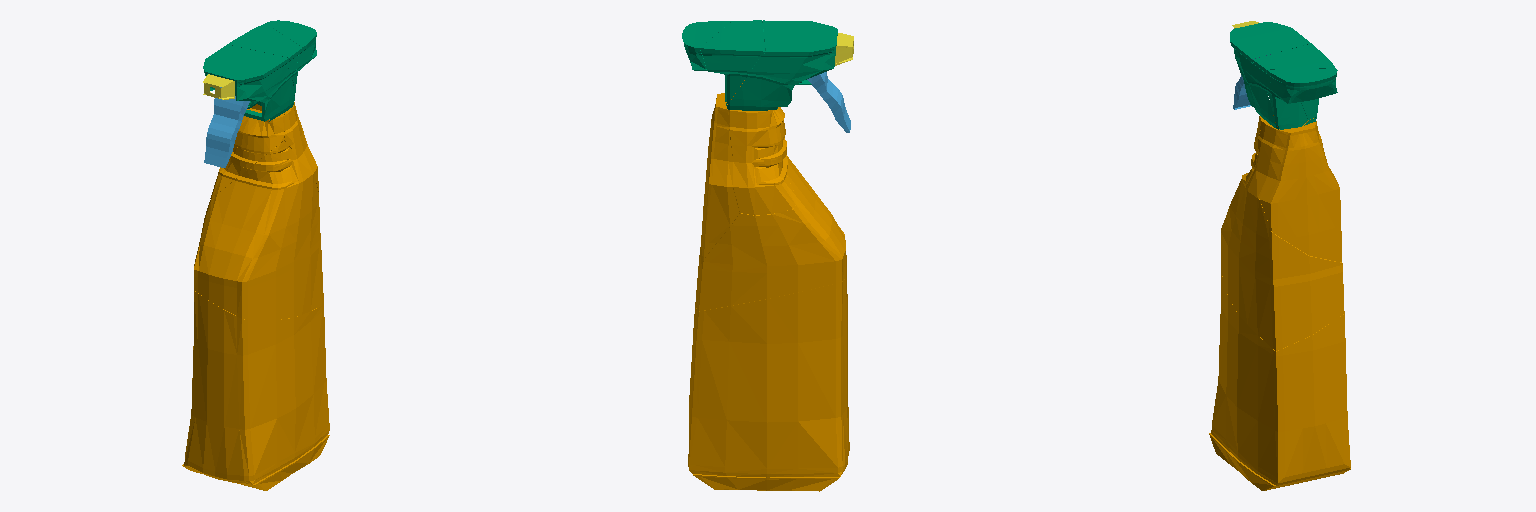
URDF robot description (spray_bottle_blue):
<?xml version='1.0' encoding='utf-8'?>
<robot name="spray_bottle_blue">
  <link name="link_1_container">
    <inertial>
      <origin xyz="0.000206531 0.000452376 -0.06" rpy="0 0 0" />
      <mass value="0.9" />
      <inertia ixx="0.00367725" ixy="-9.15918e-05" ixz="-9.67605e-05" iyy="0.00380552" iyz="-5.03705e-05" izz="0.00056154" />
    </inertial>
    <visual>
      <origin xyz="-0.000000 -0.000000 -0.000000" rpy="0 0 0" />
      <geometry>
        <mesh filename="objs/1_container__bottle.obj" />
      </geometry>
    </visual>
    <collision>
      <origin xyz="0 0 0" rpy="0 0 0" />
      <geometry>
        <mesh filename="collision/link_1_container.obj" />
      </geometry>
    </collision>
  </link>
  <link name="link_2_handle">
    <inertial>
      <origin xyz="-0.00397345 -0.00210759 -0.0118285" rpy="0 0 0" />
      <mass value="0.02" />
      <inertia ixx="2.42644e-06" ixy="-8.13056e-08" ixz="-9.16996e-07" iyy="2.5403e-06" iyz="-4.77358e-07" izz="1.13297e-06" />
    </inertial>
    <visual>
      <origin xyz="0.023284 0.011798 -0.107532" rpy="0 0 0" />
      <geometry>
        <mesh filename="objs/2_handle__03.obj" />
      </geometry>
    </visual>
    <collision>
      <origin xyz="0 0 0" rpy="0 0 0" />
      <geometry>
        <mesh filename="collision/link_2_handle.obj" />
      </geometry>
    </collision>
  </link>
  <link name="link_3_head">
    <inertial>
      <origin xyz="-0.00737643 -0.0031918 0.00356421" rpy="0 0 0" />
      <mass value="0.05" />
      <inertia ixx="1.21958e-05" ixy="-5.80121e-06" ixz="1.17888e-07" iyy="2.02987e-05" iyz="5.76716e-08" izz="2.2504e-05" />
    </inertial>
    <visual>
      <origin xyz="-0.010113 -0.004929 -0.106225" rpy="0 0 0" />
      <geometry>
        <mesh filename="objs/3_head__04.obj" />
      </geometry>
    </visual>
    <visual>
      <origin xyz="-0.010113 -0.004929 -0.106225" rpy="0 0 0" />
      <geometry>
        <mesh filename="objs/3_head__opacity_plastic.obj" />
      </geometry>
    </visual>
    <visual>
      <origin xyz="-0.010113 -0.004929 -0.106225" rpy="0 0 0" />
      <geometry>
        <mesh filename="objs/3_head__top.obj" />
      </geometry>
    </visual>
    <collision>
      <origin xyz="0 0 0" rpy="0 0 0" />
      <geometry>
        <mesh filename="collision/link_3_head.obj" />
      </geometry>
    </collision>
  </link>
  <link name="link_4_nozzle">
    <inertial>
      <origin xyz="0.000485742 0.0002534 0.000396464" rpy="0 0 0" />
      <mass value="0.005" />
      <inertia ixx="1.28591e-07" ixy="2.62879e-08" ixz="3.3328e-09" iyy="9.1777e-08" iyz="1.7349e-09" izz="1.37551e-07" />
    </inertial>
    <visual>
      <origin xyz="0.035802 0.018181 -0.118231" rpy="0 0 0" />
      <geometry>
        <mesh filename="objs/4_nozzle__03.obj" />
      </geometry>
    </visual>
    <collision>
      <origin xyz="0 0 0" rpy="0 0 0" />
      <geometry>
        <mesh filename="collision/link_4_nozzle.obj" />
      </geometry>
    </collision>
  </link>
  <joint name="joint_2_to_3" type="revolute">
    <parent link="link_3_head" />
    <child link="link_2_handle" />
    <origin xyz="-0.03339746985543426 -0.01672693830223112 0.001306445232886283" rpy="0 0 0" />
    <axis xyz="0.46174861353127283 -0.8870108330240095 5.431374887359403e-17" />
    <limit lower="0" upper="0.3927" effort="5" velocity="5.0" />
    <dynamics damping="0.02" friction="0.01" />
  </joint>
  <joint name="joint_3_to_1" type="fixed">
    <parent link="link_1_container" />
    <child link="link_3_head" />
    <origin xyz="0.010113086124694236 0.004929358517803259 0.10622536456713036" rpy="0 0 0" />
  </joint>
  <joint name="joint_4_to_3" type="fixed">
    <parent link="link_3_head" />
    <child link="link_4_nozzle" />
    <origin xyz="-0.04591556424057996 -0.023110066325511082 0.012005762118859509" rpy="0 0 0" />
  </joint>
</robot>

--- What the picture shows (computed from the rendered views, not written in the file) ---
3 views of the same robot in one strip: view 1: azimuth 30°, elevation 25°; view 2: azimuth 150°, elevation 25°; view 3: azimuth 270°, elevation 25° (orthographic).
Robot: spray_bottle_blue — 4 links, 3 joints (1 revolute, 2 fixed); root link link_1_container; default pose: every joint at zero.
Links seen in each view (by area): view 1: link_1_container, link_3_head, link_2_handle, link_4_nozzle; view 2: link_1_container, link_3_head, link_2_handle; view 3: link_1_container, link_3_head.
Boxes of the visible links, x1,y1,x2,y2 form: link_1_container: (182, 102, 329, 490); link_3_head: (203, 20, 316, 121); link_2_handle: (204, 87, 249, 167); link_4_nozzle: (203, 74, 234, 99); link_1_container: (688, 80, 849, 491); link_3_head: (682, 20, 837, 110); link_2_handle: (807, 72, 850, 132); link_1_container: (1209, 115, 1350, 490); link_3_head: (1230, 22, 1337, 129).
Size in the robot's own frame: 0.0917 by 0.0778 by 0.25 metres.
Meshes: 6 distinct files referenced, 6 mesh visuals loaded (6 OBJ).
